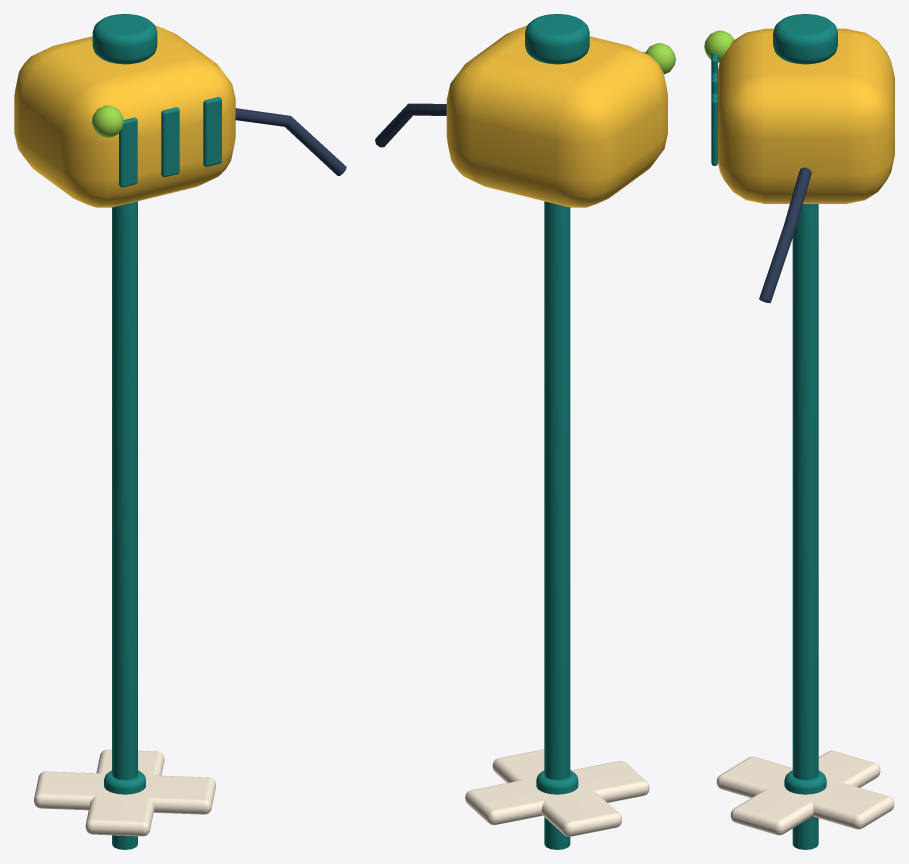
File: VatStirrer.fbx
The picture shows the model from 3 angles, left to right: view 1: azimuth 30°, elevation 25°; view 2: azimuth 150°, elevation 25°; view 3: azimuth 270°, elevation 25°; orthographic projection.
Parts seen in each view (by area): view 1: VatStirrer mesh; view 2: VatStirrer mesh; view 3: VatStirrer mesh.
Part boxes in pixels (x1,y1,x2,y2): VatStirrer mesh: [14, 14, 346, 849]; VatStirrer mesh: [375, 14, 675, 849]; VatStirrer mesh: [704, 14, 894, 849].
Size of the model in its own units: 0.406 by 1.11 by 0.235.
